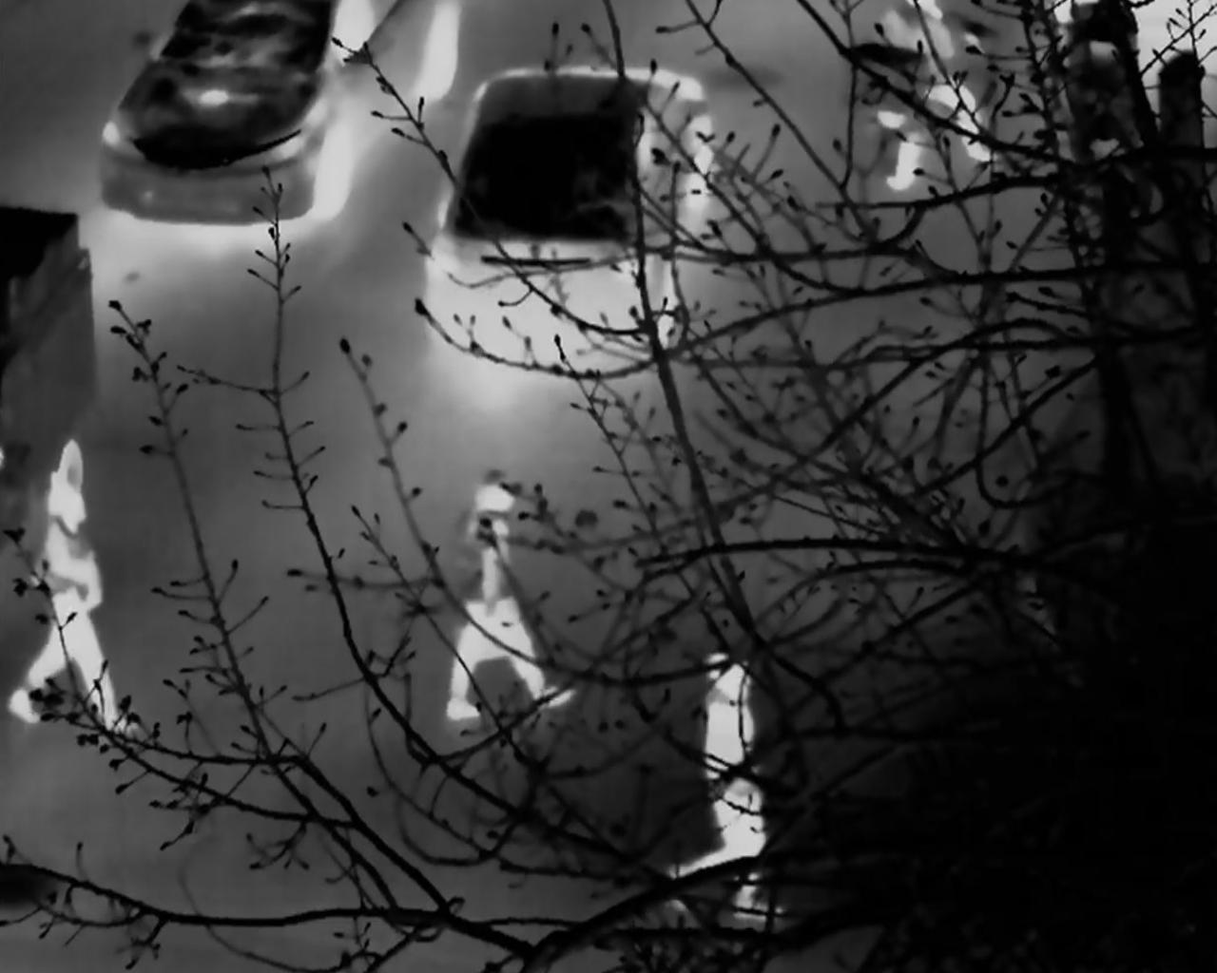person: (437, 484, 573, 721), (27, 462, 121, 717), (694, 658, 766, 897)
